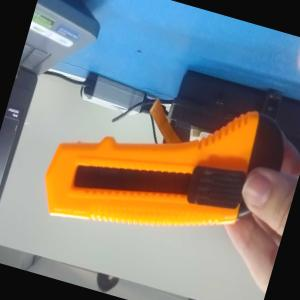estilete: (34, 58, 285, 270)
